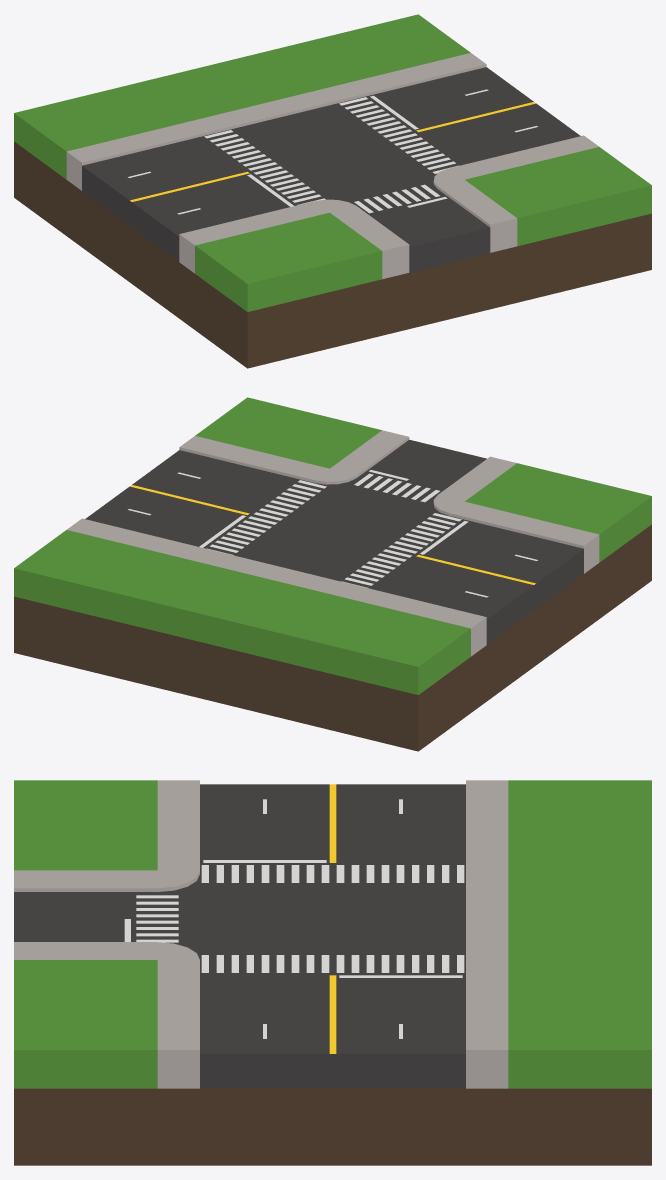
The model's file is tile-road-mainroad-intersection-t.glb.
The picture shows the model from 3 angles, top to bottom: view 1: azimuth 30°, elevation 25°; view 2: azimuth 150°, elevation 25°; view 3: azimuth 270°, elevation 25°; orthographic projection. The views are drawn at different scales.
Parts seen in each view (by area): view 1: tile-road-mainroad-intersection-t; view 2: tile-road-mainroad-intersection-t; view 3: tile-road-mainroad-intersection-t.
Part boxes in pixels (box(x1,y1,x2,y2)): tile-road-mainroad-intersection-t: box(14, 14, 651, 368); tile-road-mainroad-intersection-t: box(14, 397, 651, 751); tile-road-mainroad-intersection-t: box(14, 780, 651, 1165).
Size of the model in its own units: 30 by 6 by 30.
1 material, 1 textured.
